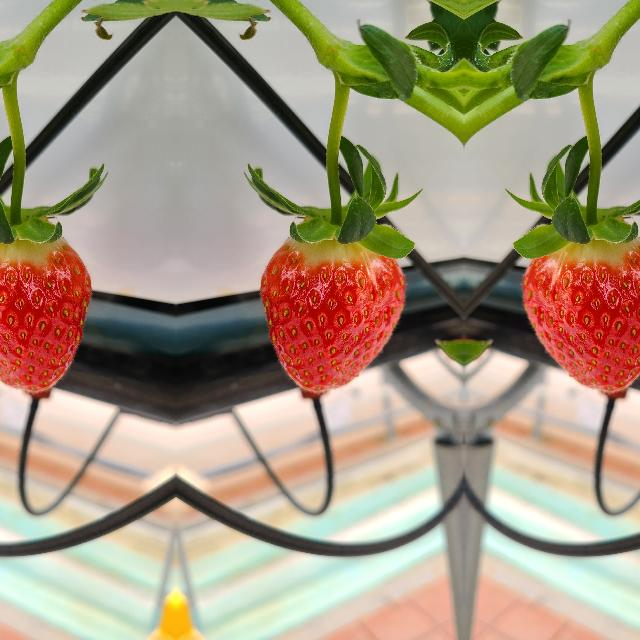Health_100: (258, 236, 407, 394), (519, 235, 640, 394), (0, 235, 92, 394)
